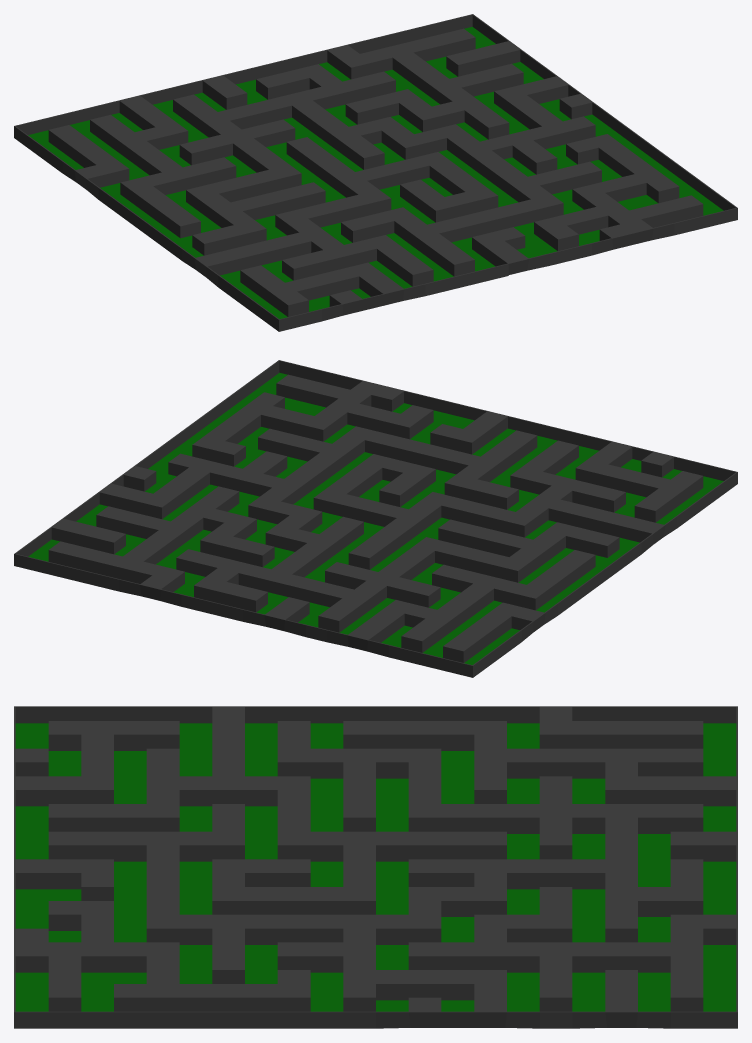
The model's file is maze_3.fbx.
3 renders of one model, top to bottom at view 1: azimuth 30°, elevation 25°; view 2: azimuth 150°, elevation 25°; view 3: azimuth 270°, elevation 25°, orthographic. The views are drawn at different scales.
Parts seen in each view (by area): view 1: Плоскость; view 2: Плоскость; view 3: Плоскость.
Part boxes in pixels (x1,y1,x2,y2): Плоскость: (14,14,737,331); Плоскость: (14,360,737,677); Плоскость: (14,706,737,1028).
Size of the model in its own units: 20100 by 501 by 20100.
